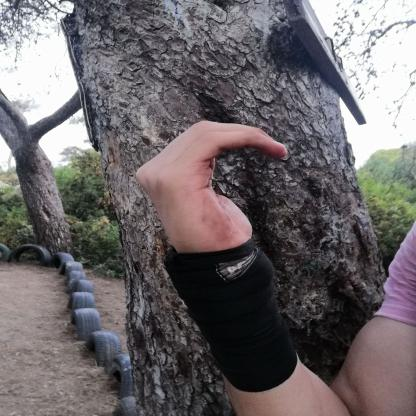HAA: (118, 110, 306, 270)
